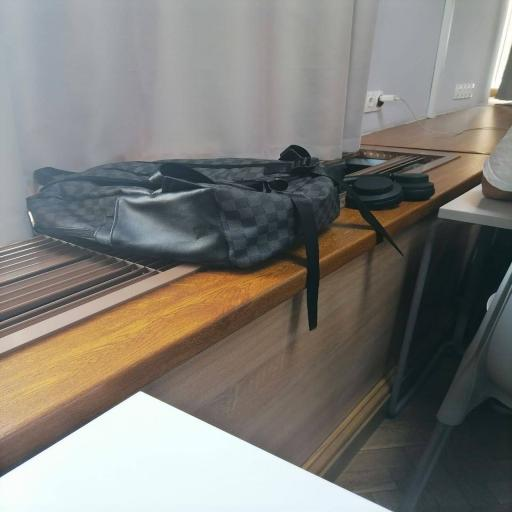bus: (400, 265, 511, 511)
door: (27, 145, 346, 330)
stroller: (0, 392, 387, 511), (388, 185, 511, 417)
